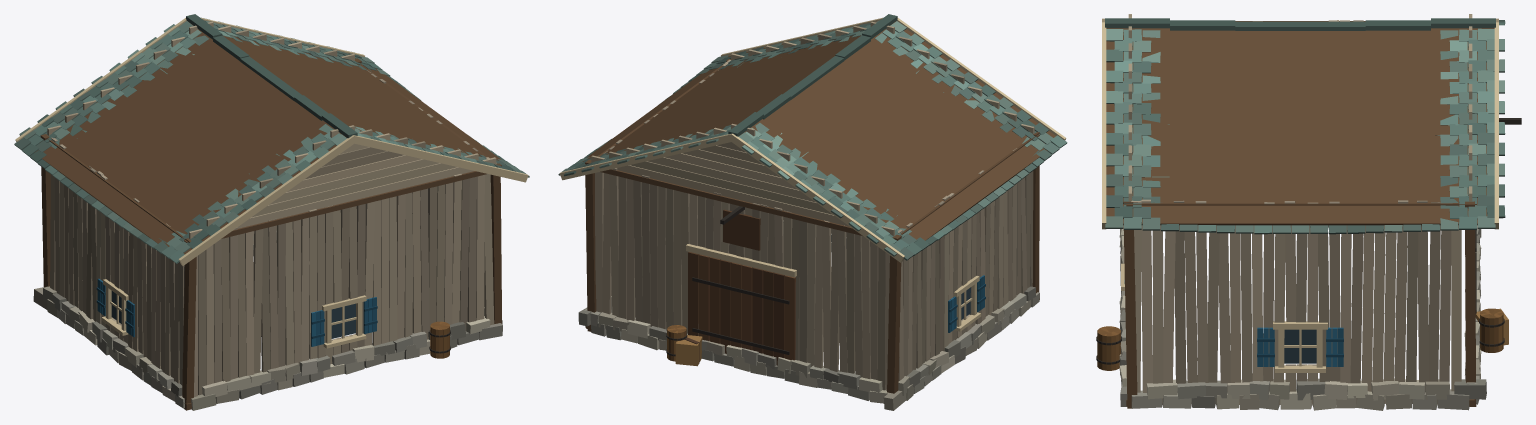
The model's file is galpao_2.glb.
3 renders of one model, left to right at view 1: azimuth 30°, elevation 25°; view 2: azimuth 150°, elevation 25°; view 3: azimuth 270°, elevation 25°, orthographic. The views are drawn at different scales.
Visible parts, largest first — view 1: Madeira, Telhado, Pedra, Vidro; view 2: Madeira, Telhado, Pedra, Ferro; view 3: Madeira, Telhado, Pedra, Vidro, Ferro.
Part boxes in pixels (x1,y1,x2,y2): Madeira: (15,17,528,410); Telhado: (14,14,529,263); Pedra: (33,231,502,410); Vidro: (111,291,355,338); Madeira: (559,17,1066,393); Telhado: (558,14,1067,260); Pedra: (578,220,1039,410); Ferro: (666,206,789,356); Madeira: (1097,14,1508,408); Telhado: (1105,18,1505,234); Pedra: (1119,225,1486,410); Vidro: (1284,329,1316,363); Ferro: (1096,118,1521,364).
Size of the model in its own units: 11.57 by 7.69 by 10.
